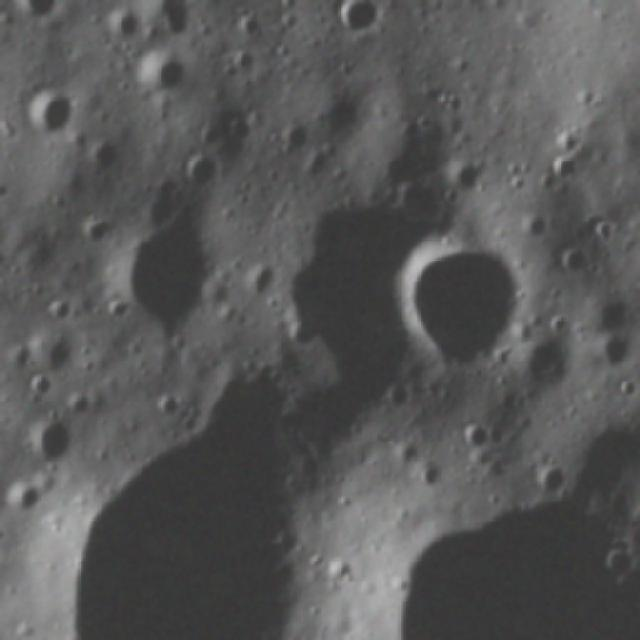crater: (398, 223, 536, 388), (104, 207, 224, 338), (11, 413, 75, 473), (132, 47, 193, 101), (322, 3, 384, 51), (171, 146, 226, 197), (26, 89, 77, 142), (446, 156, 496, 196), (318, 551, 362, 595), (0, 480, 40, 526), (526, 458, 566, 502), (453, 416, 496, 455), (557, 237, 594, 280), (609, 377, 640, 403)
